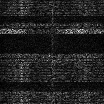wifi: (1, 54, 104, 81), (1, 90, 104, 104), (1, 1, 104, 15), (1, 22, 104, 33)
